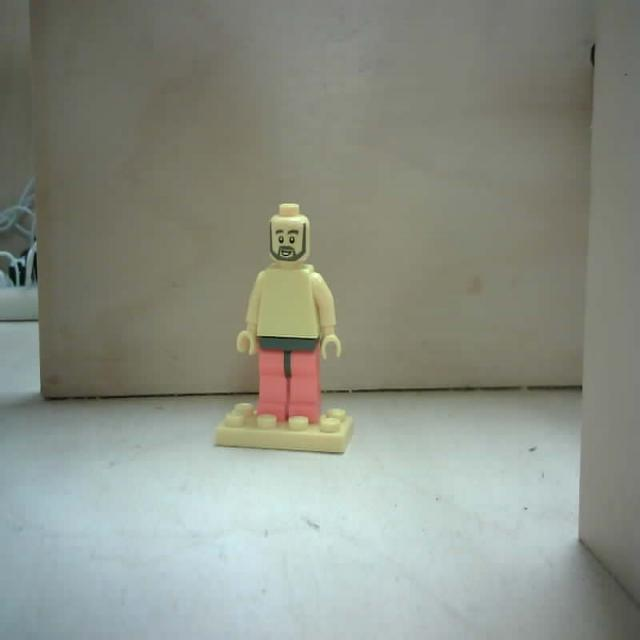Lego-People: (216, 202, 357, 458)
